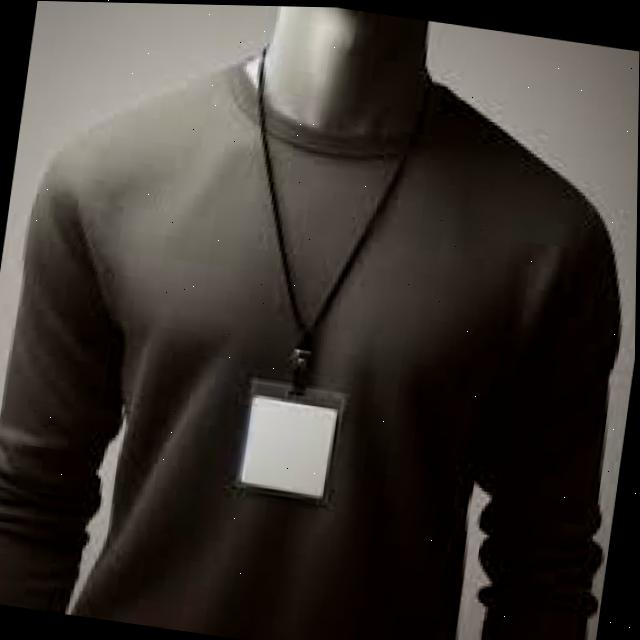id_card: (195, 53, 441, 505)
